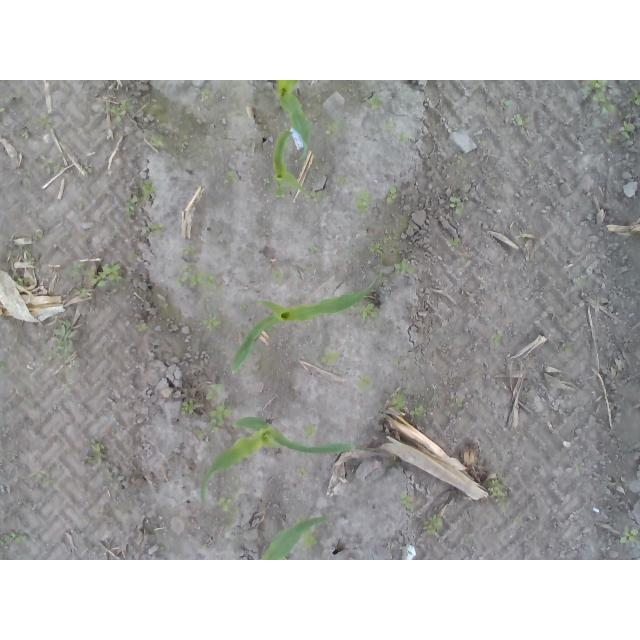Maize: (201, 417, 351, 506), (229, 283, 375, 374), (272, 80, 313, 158), (257, 516, 327, 561), (270, 126, 306, 198)
Weeds: (48, 319, 80, 364), (82, 442, 114, 480), (176, 264, 217, 289), (206, 403, 234, 433), (487, 477, 511, 511), (96, 260, 124, 289), (106, 100, 131, 129), (577, 80, 605, 102), (355, 188, 374, 216), (133, 177, 157, 199), (423, 510, 445, 534), (128, 192, 145, 221), (63, 257, 85, 279), (218, 495, 234, 523), (392, 258, 417, 275), (617, 527, 640, 545), (180, 398, 200, 417), (323, 120, 345, 137), (0, 532, 28, 545), (205, 383, 225, 401), (358, 304, 379, 321), (391, 391, 409, 410), (367, 95, 385, 113), (303, 530, 321, 548), (150, 134, 170, 150), (385, 185, 399, 207), (12, 271, 34, 285), (31, 471, 49, 488), (355, 375, 374, 391), (0, 94, 16, 113), (448, 196, 464, 215), (45, 159, 63, 175), (621, 121, 636, 140), (368, 240, 385, 256), (321, 351, 340, 365), (303, 191, 329, 201), (202, 320, 222, 333), (303, 423, 318, 440), (409, 403, 427, 417), (83, 266, 98, 282), (144, 223, 164, 235), (178, 134, 191, 152), (511, 114, 529, 127), (223, 170, 238, 185), (37, 112, 51, 128), (400, 494, 413, 511), (22, 246, 33, 265), (630, 86, 640, 106), (383, 231, 401, 242), (193, 428, 208, 441), (200, 87, 212, 102), (603, 102, 618, 114), (156, 538, 167, 554), (79, 162, 93, 174), (489, 333, 501, 347), (135, 319, 146, 334), (499, 99, 514, 109), (33, 228, 44, 241), (146, 104, 163, 112), (574, 462, 586, 473), (337, 176, 349, 187), (272, 271, 284, 282), (183, 244, 193, 257), (304, 244, 320, 252), (511, 515, 522, 526), (452, 154, 463, 165), (399, 134, 410, 145), (239, 303, 250, 313), (606, 136, 618, 145), (562, 343, 572, 353), (449, 240, 460, 249), (19, 131, 29, 140), (391, 356, 401, 365), (23, 168, 33, 177), (79, 287, 88, 297), (296, 467, 304, 478), (240, 112, 249, 121), (129, 248, 139, 256), (0, 359, 8, 369), (295, 514, 305, 522), (528, 160, 537, 168), (456, 400, 464, 409), (391, 455, 398, 465), (455, 127, 465, 133), (220, 475, 225, 481)
